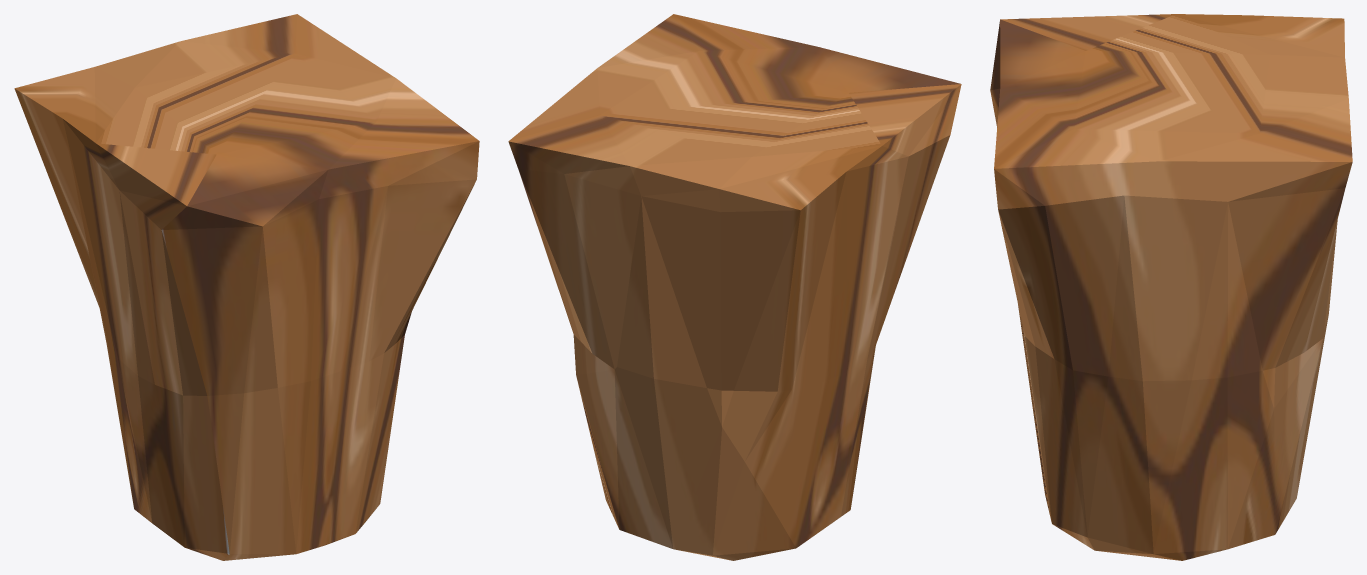
3 renders of one model, left to right at view 1: azimuth 30°, elevation 25°; view 2: azimuth 150°, elevation 25°; view 3: azimuth 270°, elevation 25°, orthographic. The views are drawn at different scales.
Parts seen in each view (by area): view 1: 立方体; view 2: 立方体; view 3: 立方体.
Part boxes in pixels (bbox=[...]): 立方体: bbox=[14, 14, 479, 560]; 立方体: bbox=[508, 14, 961, 560]; 立方体: bbox=[990, 14, 1352, 560].
Size of the model in its own units: 2.26 by 3.02 by 2.28.
